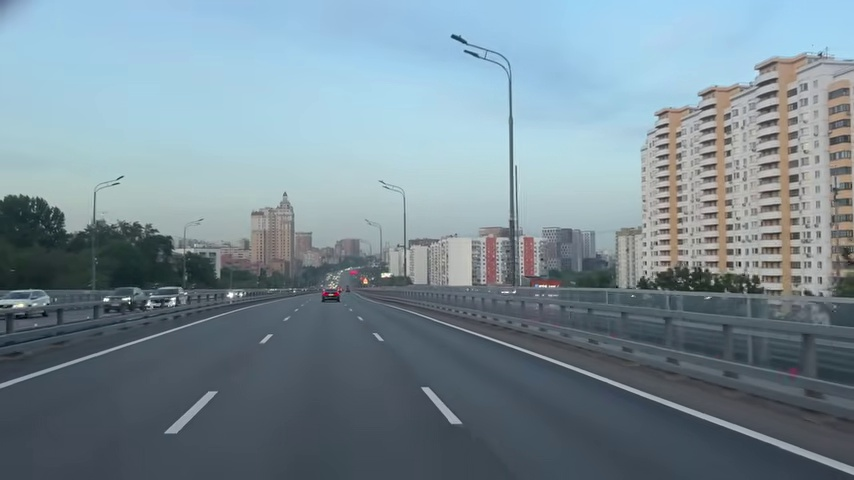apagada: (447, 30, 478, 59), (107, 174, 126, 190), (376, 177, 395, 193)
